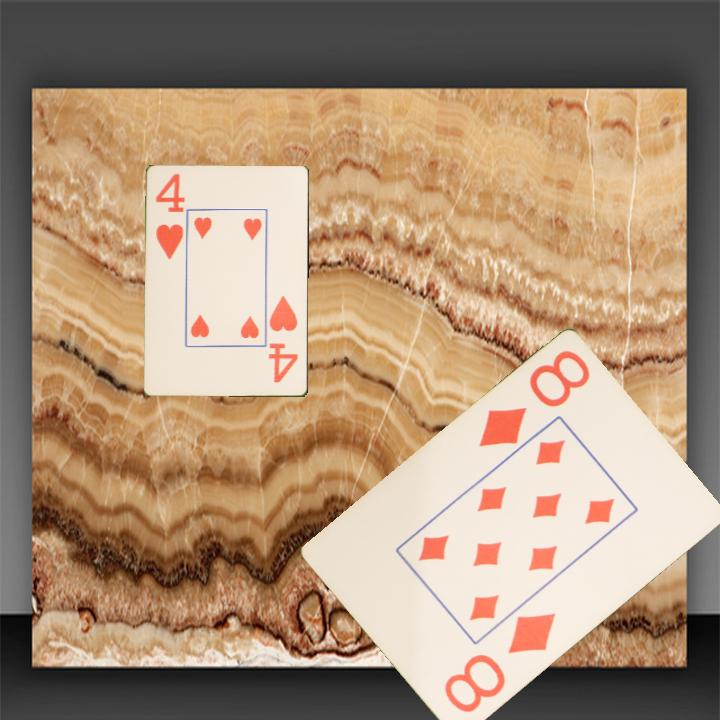4h: (266, 293, 301, 386), (152, 171, 186, 262)
8d: (440, 609, 559, 717), (475, 347, 593, 451)
